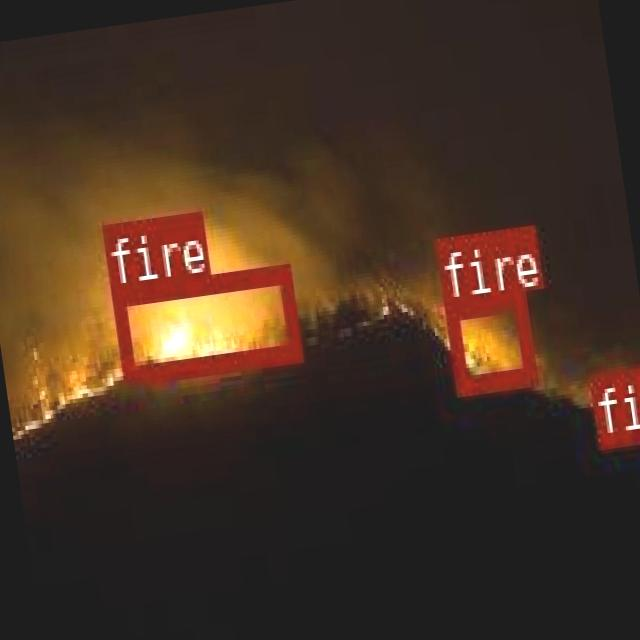fire: (110, 261, 300, 384), (444, 289, 534, 390), (587, 367, 640, 445)
